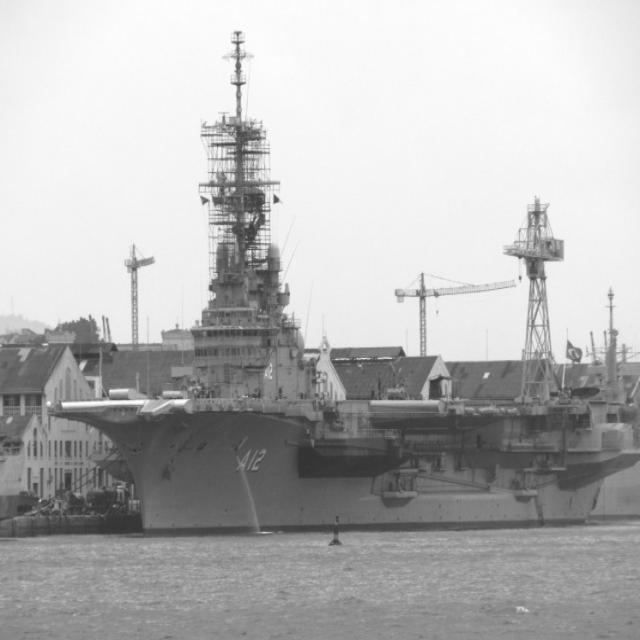Portanaves: (46, 26, 640, 540)
